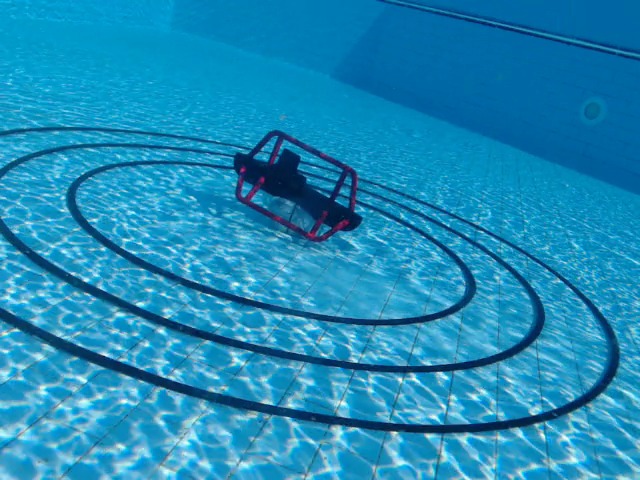submarine: (230, 128, 366, 246)
